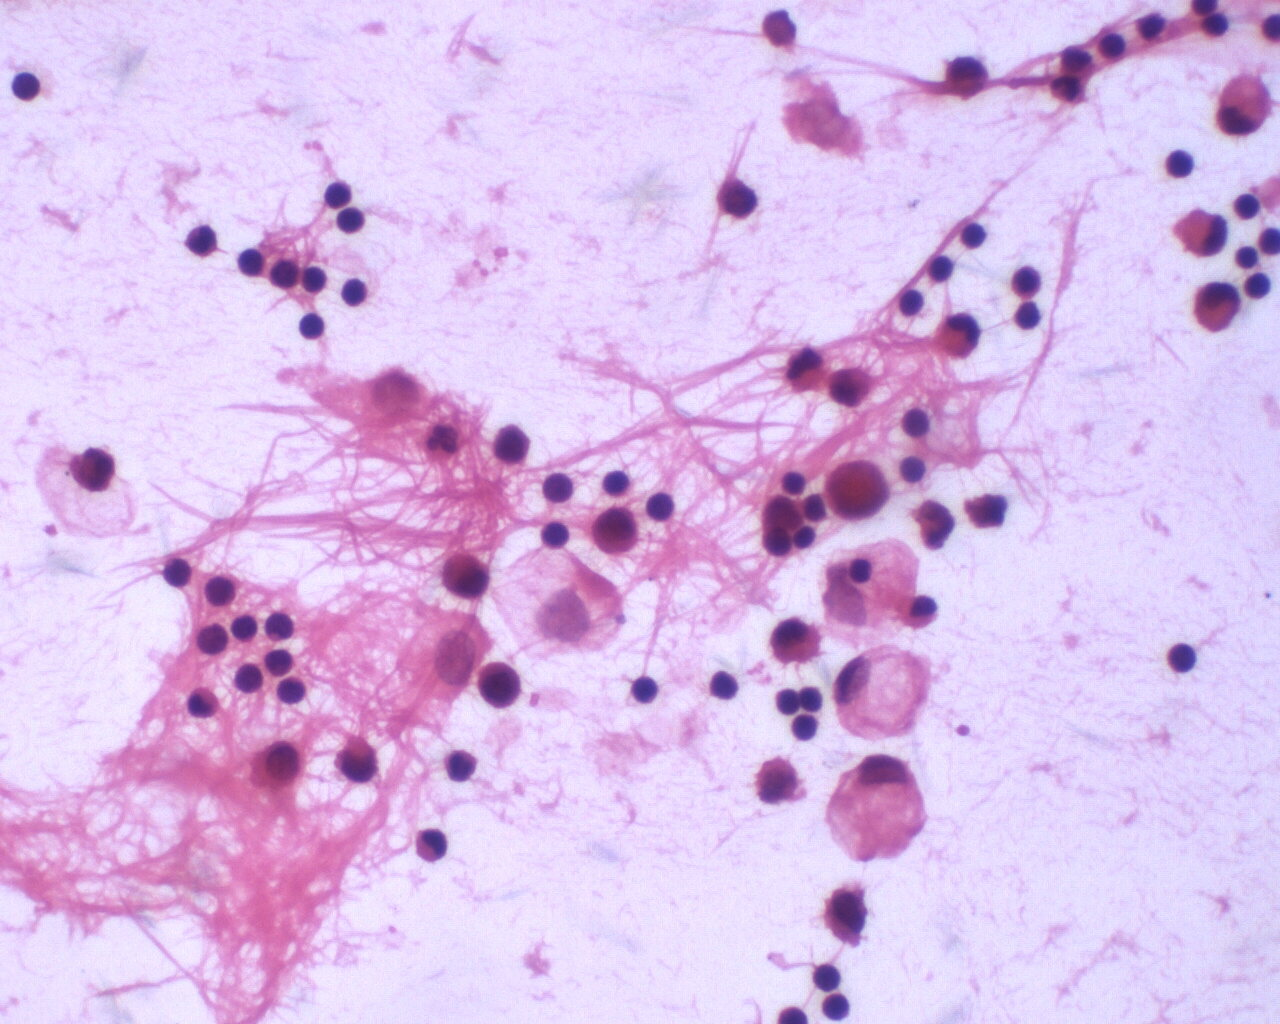ab: (824, 455, 893, 526)
histo: (821, 751, 930, 866), (825, 645, 940, 741)
lymph: (1157, 633, 1200, 681), (8, 65, 45, 109), (628, 669, 667, 709), (538, 468, 575, 508), (336, 272, 375, 308), (644, 485, 680, 523), (321, 177, 359, 210), (897, 405, 936, 438), (1164, 145, 1201, 179), (957, 216, 991, 252), (295, 309, 325, 348), (539, 517, 571, 551), (788, 713, 819, 743), (897, 287, 925, 318)
neutro: (933, 310, 986, 362), (408, 818, 451, 863), (439, 740, 481, 783)
